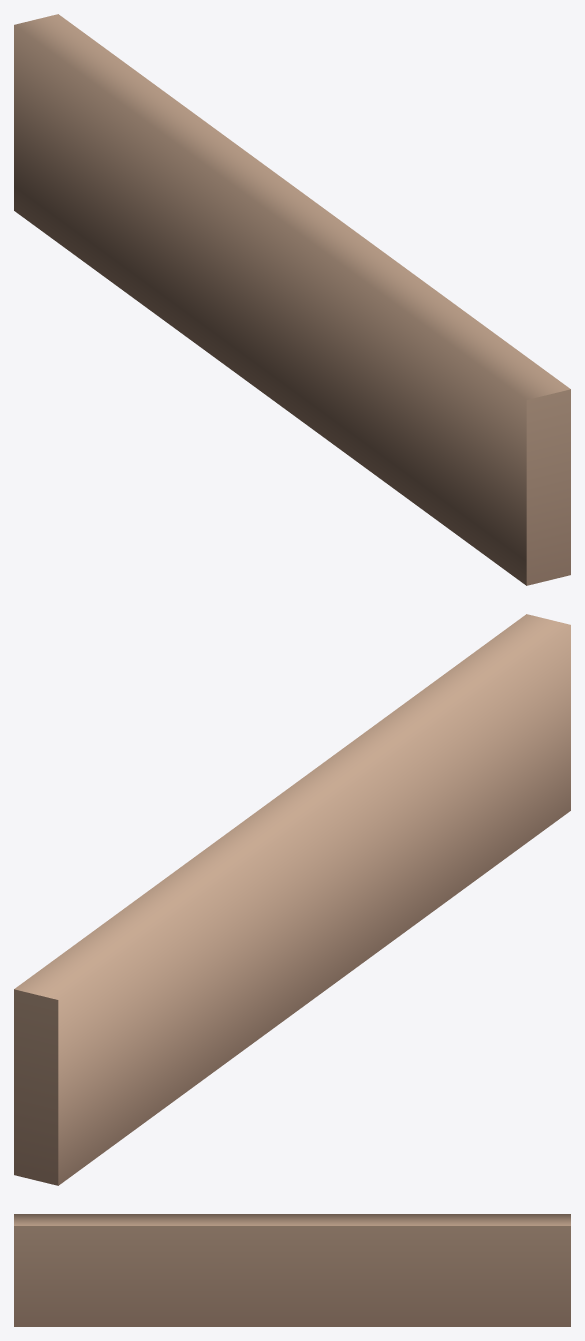
The model's file is baseboard-basic (%wall).glb.
3 renders of one model, top to bottom at view 1: azimuth 30°, elevation 25°; view 2: azimuth 150°, elevation 25°; view 3: azimuth 270°, elevation 25°, orthographic. The views are drawn at different scales.
Visible parts, largest first — view 1: baseboard-basic (%wall); view 2: baseboard-basic (%wall); view 3: baseboard-basic (%wall).
Boxes of the visible parts, x1,y1,x2,y2 form: baseboard-basic (%wall): (14,14,570,585); baseboard-basic (%wall): (14,614,570,1185); baseboard-basic (%wall): (14,1214,570,1326).
Bounding box in the file's own units: 0.05 × 0.2 × 1.
